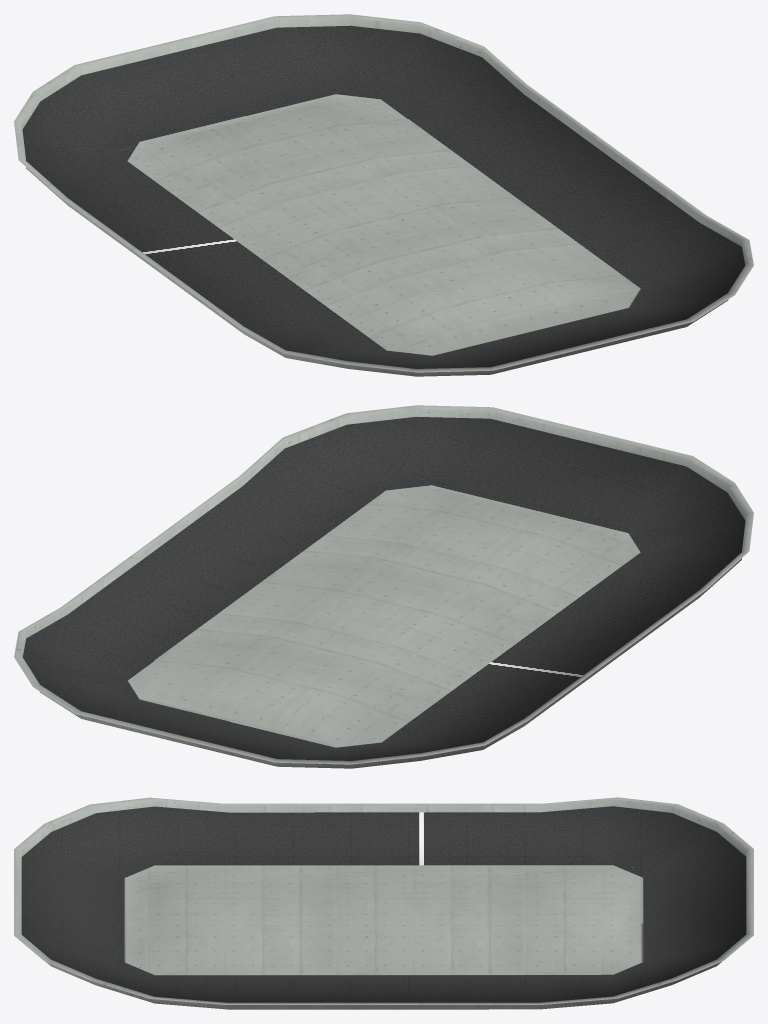
File: TEstTrack.fbx
3 views of the same model, one above another, from view 1: azimuth 30°, elevation 25°; view 2: azimuth 150°, elevation 25°; view 3: azimuth 270°, elevation 25° (orthographic). The views are drawn at different scales.
Parts seen in each view (by area): view 1: Cube; view 2: Cube; view 3: Cube.
Boxes of the visible parts, x1=… form: Cube: x1=14, y1=14, x2=753, y2=376; Cube: x1=14, y1=405, x2=753, y2=768; Cube: x1=14, y1=797, x2=753, y2=1009.
Bounding box in the file's own units: 9.2 × 0.594 × 14.28.
